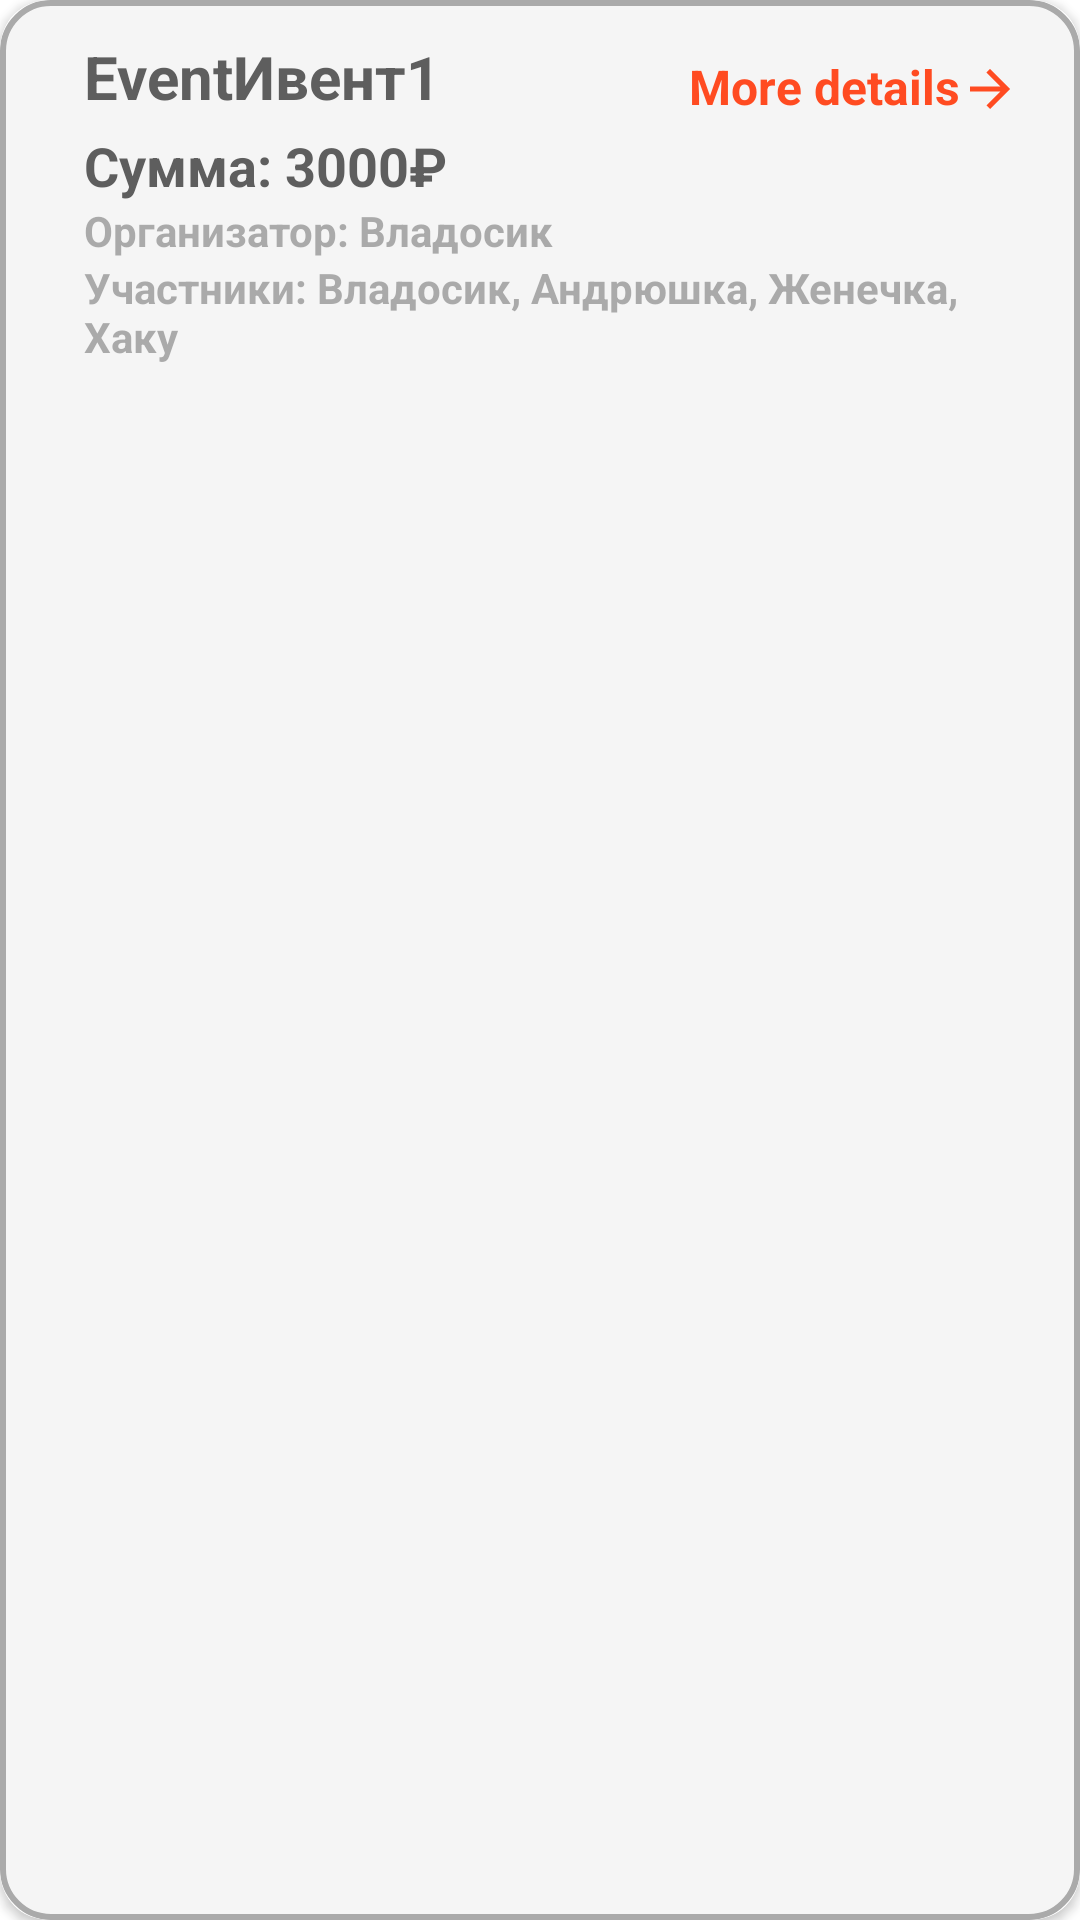

Icon click points for this 1080 × 1920 phone screenshot, format point (x, y):
arrow forward: point (990, 89)
